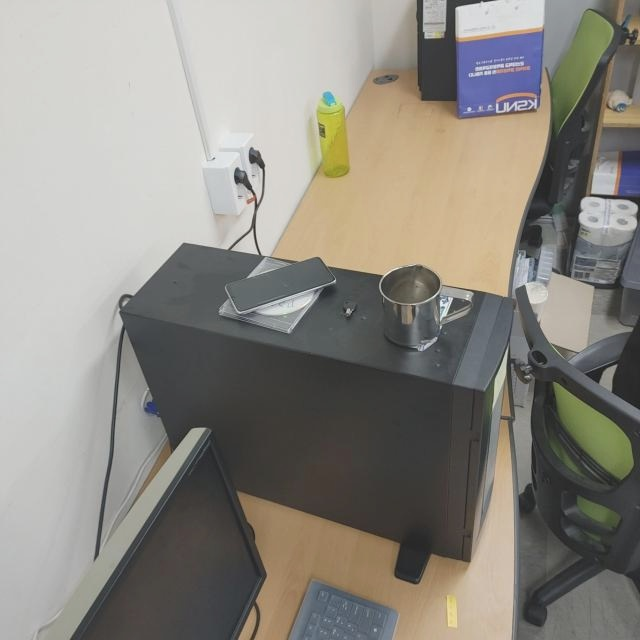cup: (377, 261, 476, 353)
phone: (223, 252, 341, 315)
